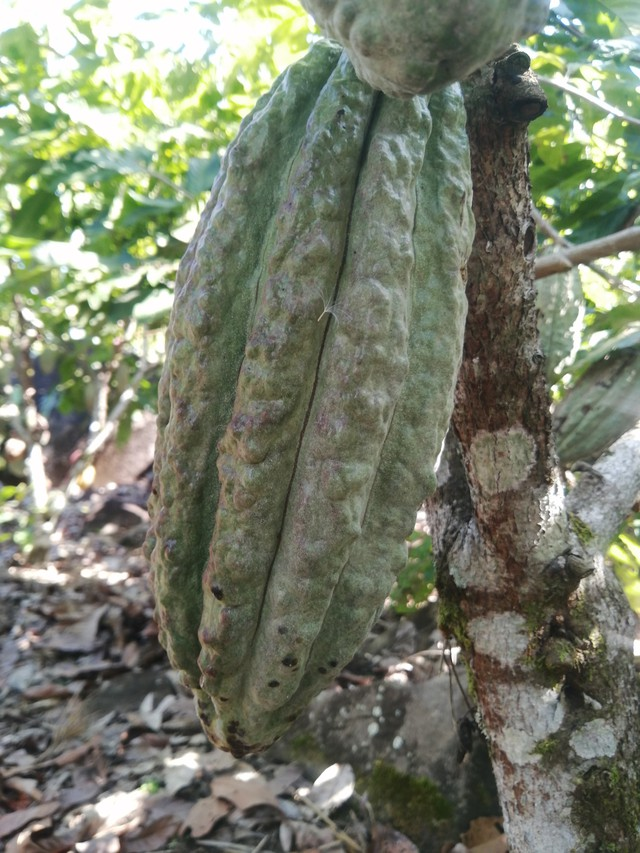Health: (114, 20, 494, 770)
